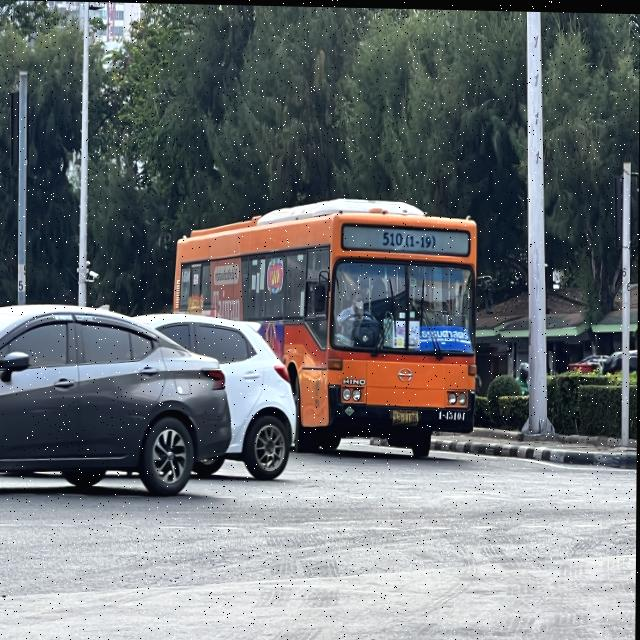BMTA-bus: (172, 196, 479, 459)
Bus-Line-Number: (378, 223, 440, 249)
Destination-Sign-Normal: (421, 324, 474, 350)
